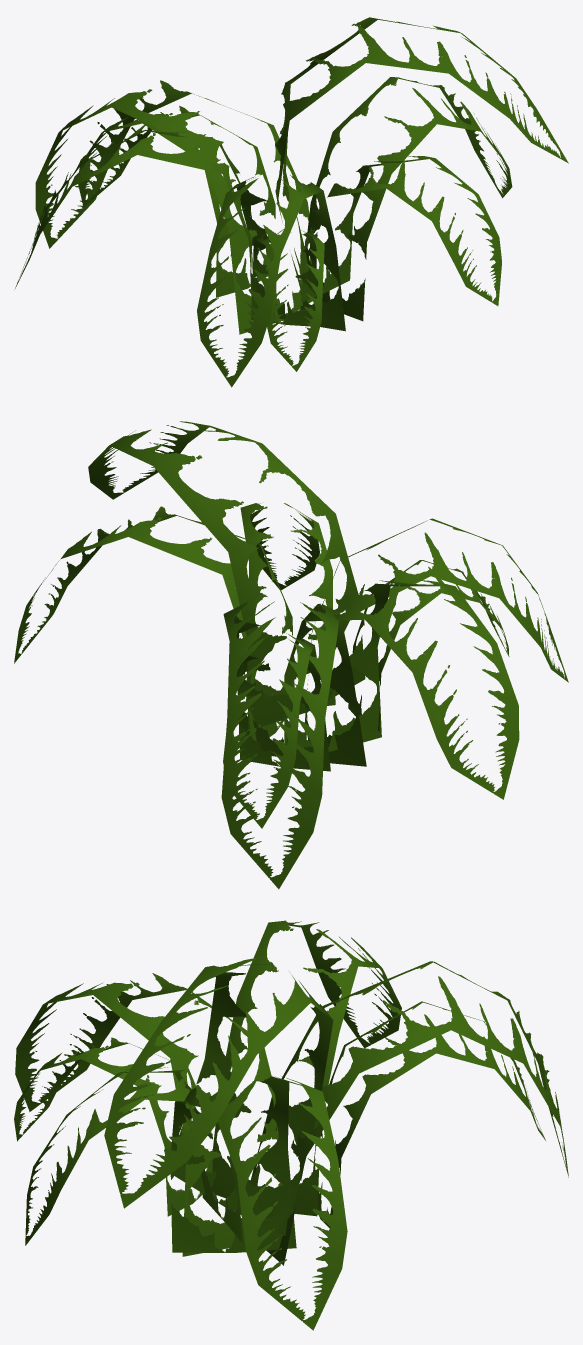
Rendered from Fern.dae.
3 views of the same model, one above another, from view 1: azimuth 30°, elevation 25°; view 2: azimuth 150°, elevation 25°; view 3: azimuth 270°, elevation 25° (orthographic). The views are drawn at different scales.
Parts seen in each view (by area): view 1: bush_fern_joined; view 2: bush_fern_joined; view 3: bush_fern_joined.
Boxes of the visible parts, x1,y1,x2,y2 form: bush_fern_joined: [15, 17, 568, 387]; bush_fern_joined: [14, 421, 568, 889]; bush_fern_joined: [14, 920, 568, 1330].
Bounding box in the file's own units: 1.52 × 1.29 × 0.8687.
